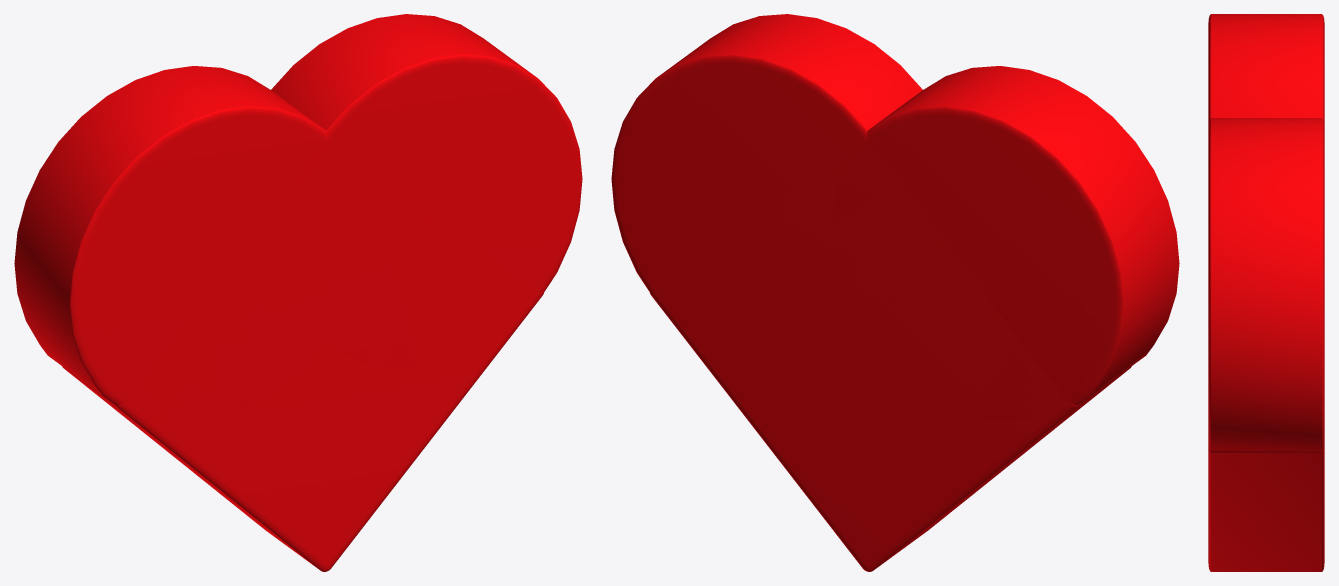
The model's file is Life.fbx.
3 views of the same model, side by side, from view 1: azimuth 30°, elevation 25°; view 2: azimuth 150°, elevation 25°; view 3: azimuth 270°, elevation 25° (orthographic).
Visible parts, largest first — view 1: Cylinder; view 2: Cylinder; view 3: Cylinder.
Part boxes in pixels (bbox=[...]): Cylinder: bbox=[14, 14, 582, 571]; Cylinder: bbox=[611, 14, 1179, 571]; Cylinder: bbox=[1208, 14, 1324, 571].
Bounding box in the file's own units: 2.05 × 1.86 × 0.4.
